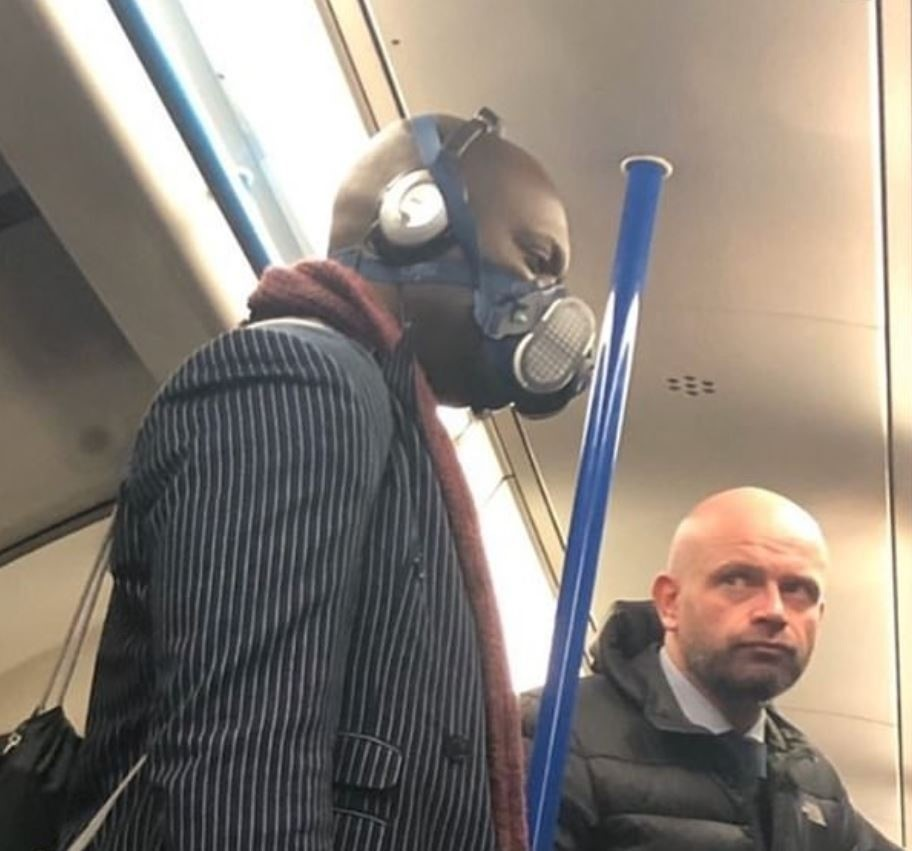face_no_mask: (647, 479, 837, 717)
